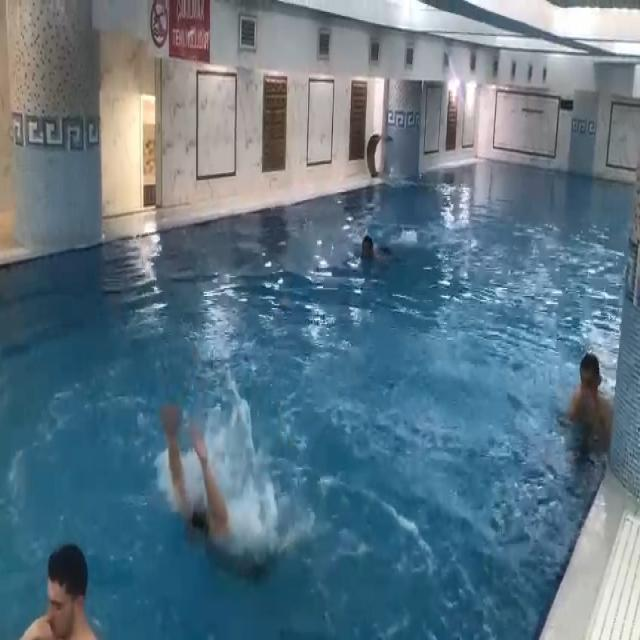Drowning: (160, 409, 282, 569)
Swimming: (357, 235, 400, 268)
